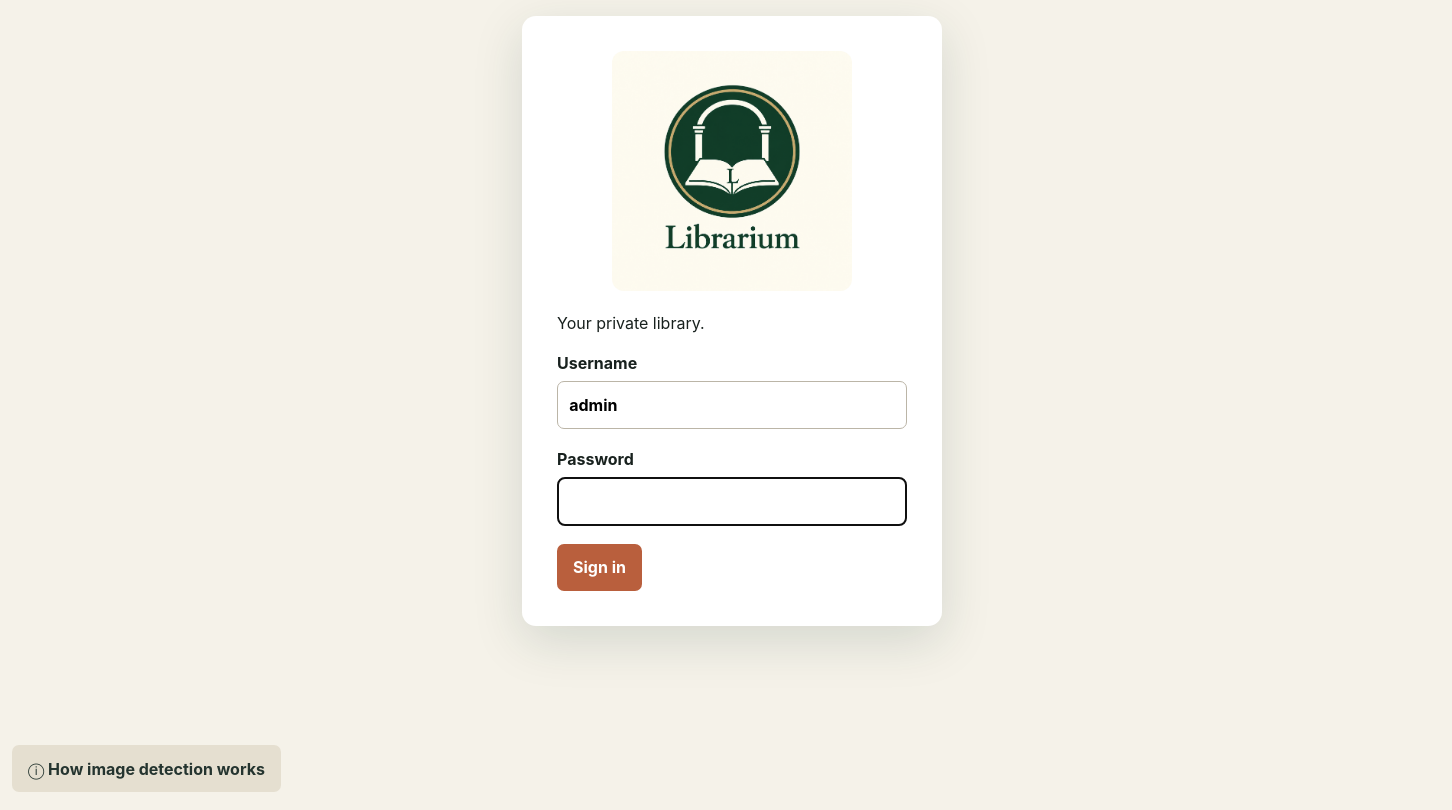
Test: image detection information › explains processing and approval on demand
(page scrolled)
Click the button "ⓘ How image detection works" at (146, 768), box [12,745,281,792]
(page scrolled)
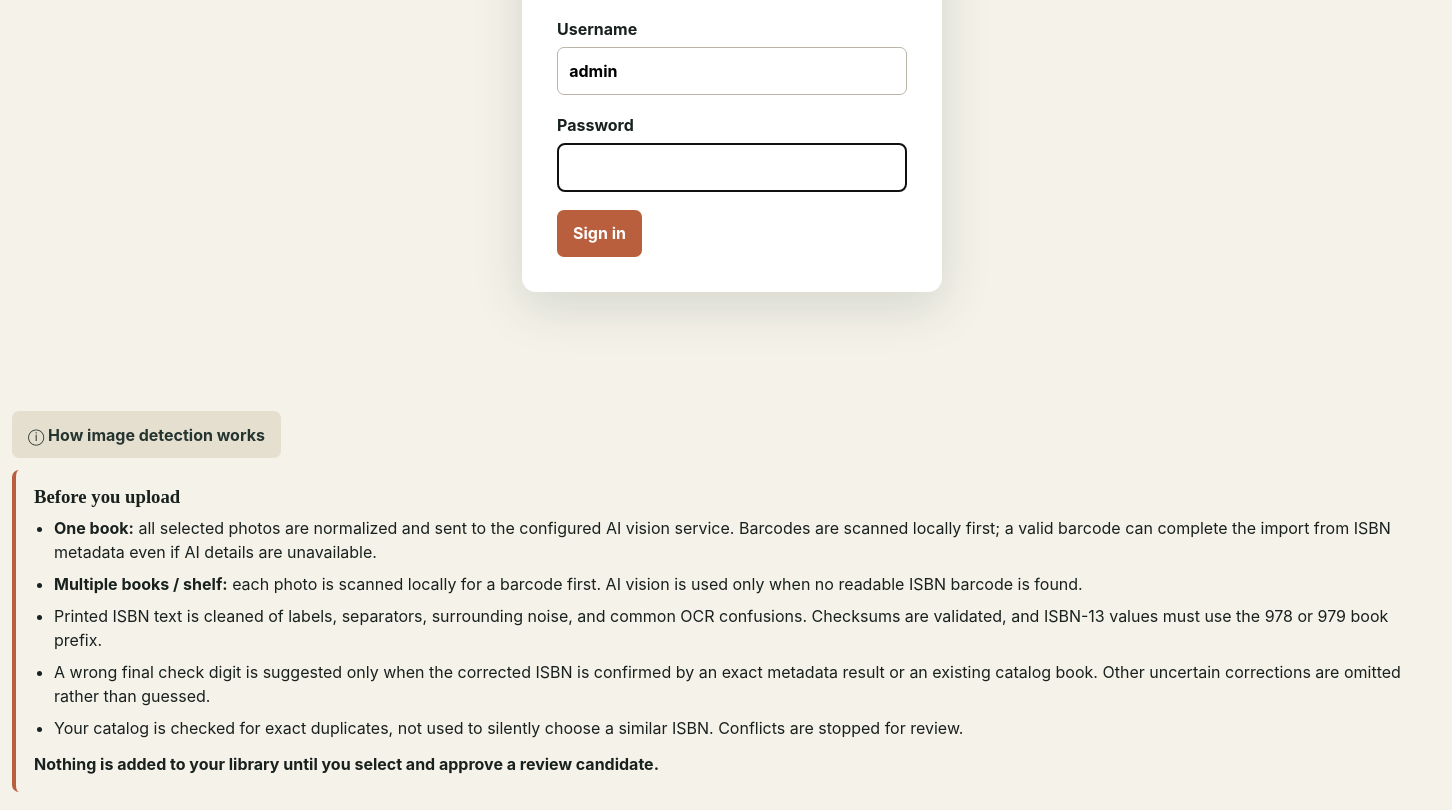
Result: the element that starts with "Before you upload" shows "scanned locally for a barcode first" at [228,574,1083,594]
Result: the element that starts with "Before you upload" shows "Checksums are validated" at [54,606,1388,650]
